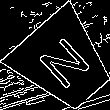N_SE: (32, 31, 96, 95)
